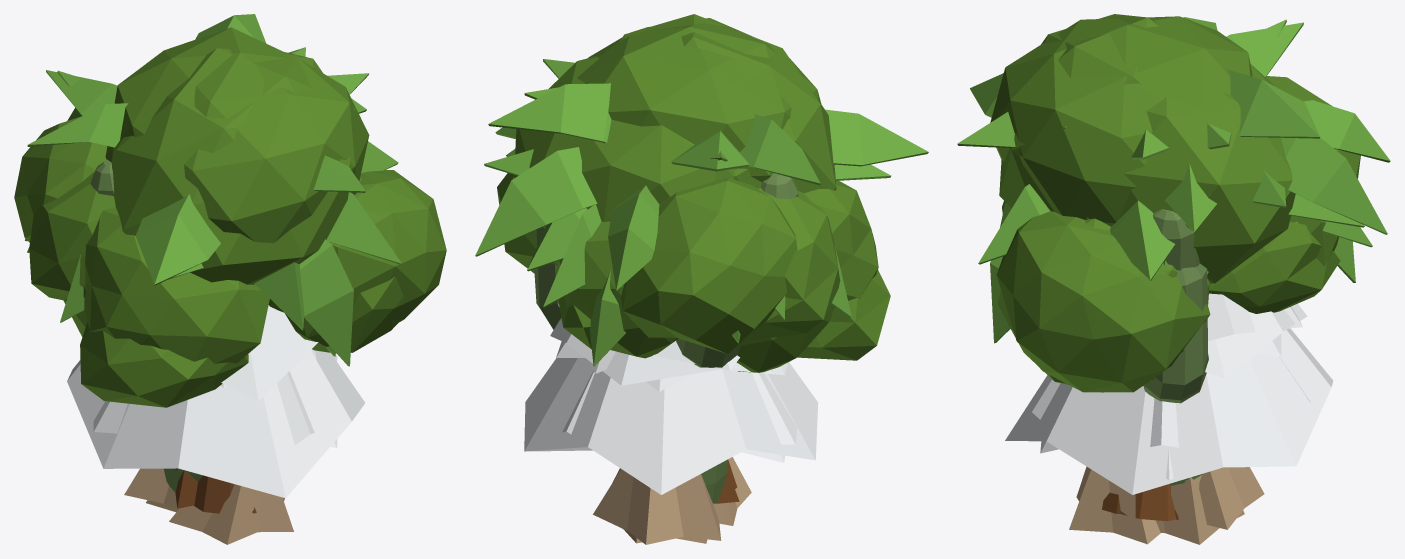
File: Doodads.fbx
The picture shows the model from 3 angles, left to right: view 1: azimuth 30°, elevation 25°; view 2: azimuth 150°, elevation 25°; view 3: azimuth 270°, elevation 25°; orthographic projection. The views are drawn at different scales.
Parts seen in each view (by area): view 1: BroadLeaf2, BroadLeaf0, NeedleLeaf0, BroadLeaf1, PalmTree0, PalmTree2, PalmTree1, NeedleLeaf1, Cactus2; view 2: BroadLeaf1, NeedleLeaf0, PalmTree2, BroadLeaf2, BroadLeaf0, PalmTree0, PalmTree1, NeedleLeaf1, Cactus1, Cactus0, NeedleLeaf2, Cactus2; view 3: BroadLeaf2, NeedleLeaf0, PalmTree2, BroadLeaf1, BroadLeaf0, PalmTree0, PalmTree1, NeedleLeaf1, Cactus0, Cactus1, NeedleLeaf2.
Part boxes in pixels (x1,y1,x2,y2): BroadLeaf2: (63,27,446,353); BroadLeaf0: (29,48,403,513); NeedleLeaf0: (67,305,364,498); BroadLeaf1: (14,52,322,508); PalmTree0: (46,47,398,544); PalmTree2: (25,14,366,509); PalmTree1: (27,70,401,512); NeedleLeaf1: (93,354,337,444); Cactus2: (90,159,114,195); BroadLeaf1: (514,56,878,503); NeedleLeaf0: (524,318,818,494); PalmTree2: (475,83,820,544); BroadLeaf2: (497,18,833,372); BroadLeaf0: (555,14,890,488); PalmTree0: (506,87,928,525); PalmTree1: (484,59,891,543); NeedleLeaf1: (558,304,797,444); Cactus1: (676,338,740,503); Cactus0: (534,226,561,329); NeedleLeaf2: (531,341,785,462); Cactus2: (760,173,798,198); BroadLeaf2: (990,16,1338,521); NeedleLeaf0: (1005,303,1333,494); PalmTree2: (957,17,1390,529); BroadLeaf1: (1002,64,1360,519); BroadLeaf0: (998,14,1340,513); PalmTree0: (970,22,1364,544); PalmTree1: (978,19,1372,544); NeedleLeaf1: (1032,293,1310,447); Cactus0: (1143,263,1208,479); Cactus1: (1153,209,1199,270); NeedleLeaf2: (1040,334,1281,480).
Bounding box in the file's own units: 1.7 × 1.69 × 2.12.
